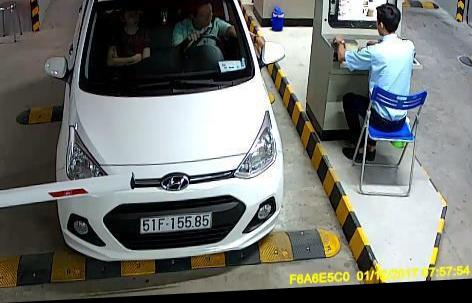License_Plate: (136, 208, 212, 234)
